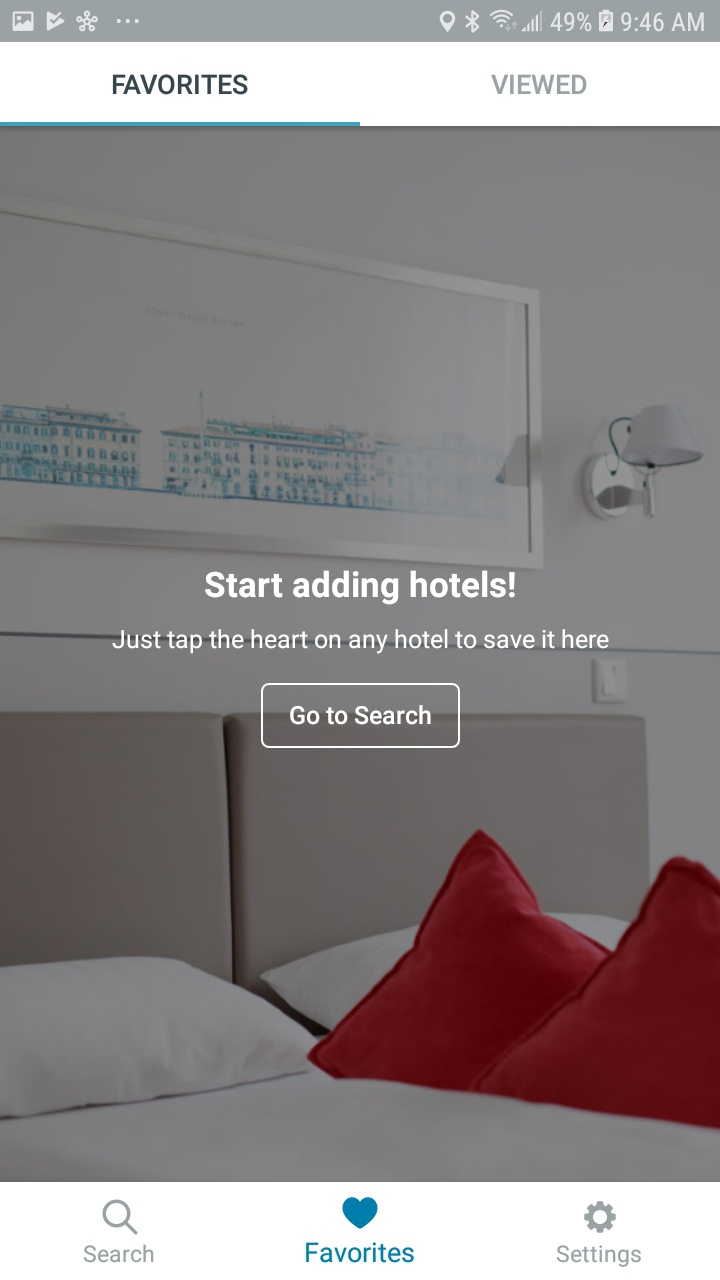Icon: (103, 1199, 139, 1235), (343, 1196, 379, 1229), (584, 1200, 617, 1233)
Image: (1, 127, 720, 1182)
Text: (112, 628, 609, 655), (205, 570, 516, 606), (113, 74, 249, 96), (306, 1241, 415, 1263), (491, 74, 587, 95), (557, 1244, 642, 1267), (84, 1244, 154, 1263)
TextButton: (261, 683, 461, 749)
UpperTaskBar: (1, 1, 720, 43)
